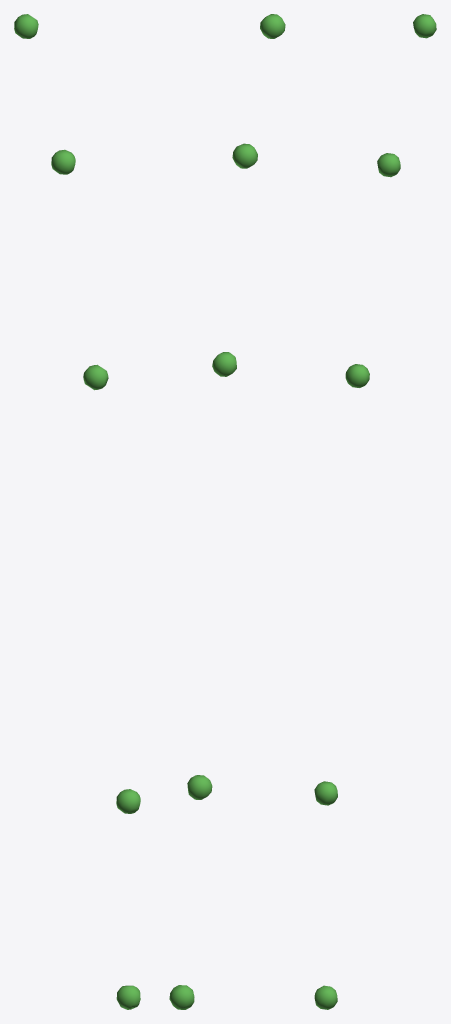
File: linfatico-retrocaval-nodes.glb
3 views of the same model, side by side, from view 1: azimuth 90°, elevation 25°; view 2: azimuth 210°, elevation 25°; view 3: azimuth 270°, elevation 25° (orthographic). The views are drawn at different scales.
Parts seen in each view (by area): view 1: Retrocaval nodes; view 2: Retrocaval nodes; view 3: Retrocaval nodes.
Boxes of the visible parts, box(x1,y1,x2,y2) form: Retrocaval nodes: box(14, 14, 140, 1009); Retrocaval nodes: box(169, 14, 285, 1009); Retrocaval nodes: box(314, 14, 436, 1009).
Bounding box in the file's own units: 0.00701 × 0.1129 × 0.0128.
